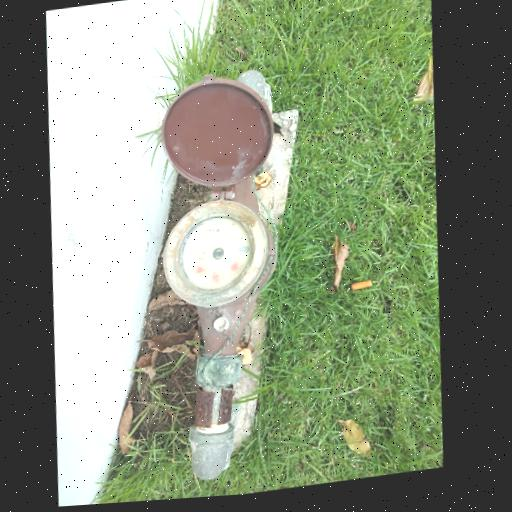0: (201, 235, 208, 244)
2: (231, 233, 238, 243)
5: (223, 234, 230, 243)
7: (216, 233, 223, 244), (208, 235, 215, 244)
border_water_meter_number: (201, 229, 238, 248)
